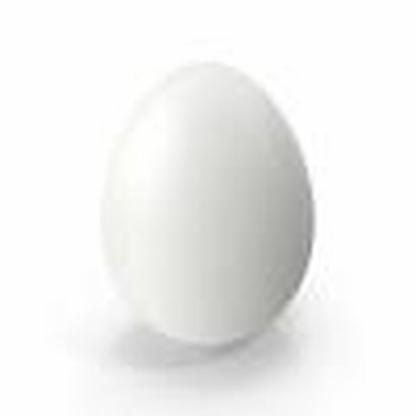egg: (91, 52, 321, 352)
